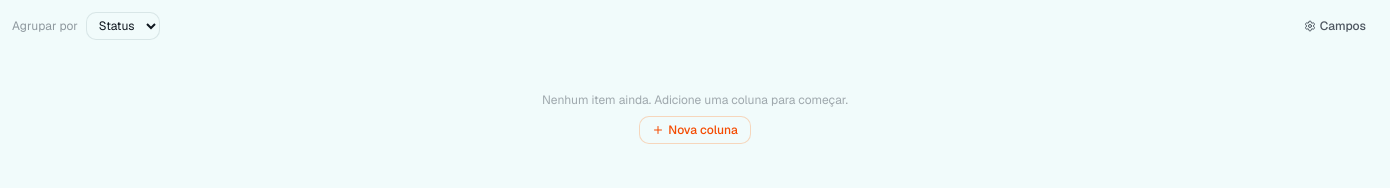
Test case: QuadroBlocoCard › kanban board › cria nova coluna local ao preencher formulário de nova coluna
// Clica no botão de nova coluna que aparece no empty state
Click the button "Nova coluna": (695, 130) [639,116,751,144]
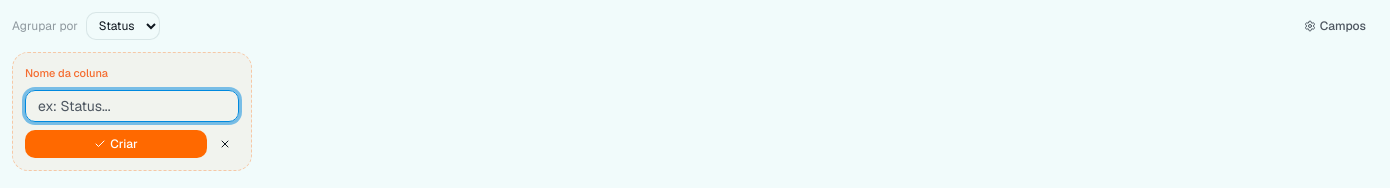
In the field with placeholder "ex: Status...": (132, 106) [25,90,239,122], type "Em Progresso"
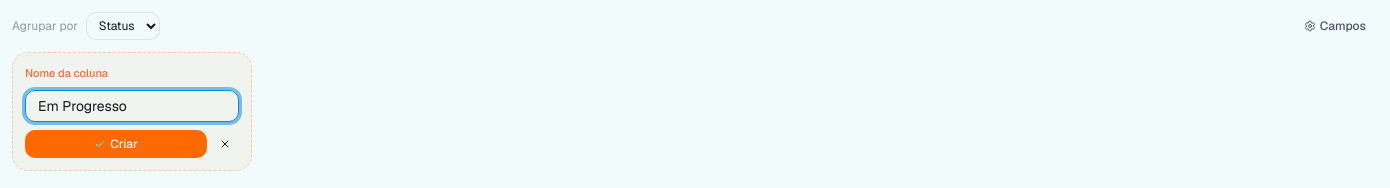
Click the button "Criar": (116, 144) [25,130,207,158]
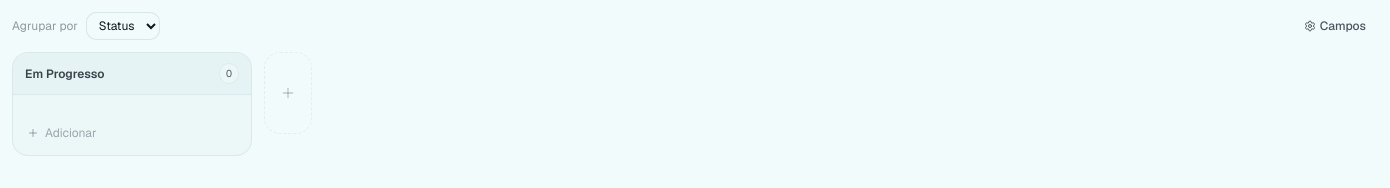
Check: the text "Em Progresso" is shown, box [25,66,104,82]
